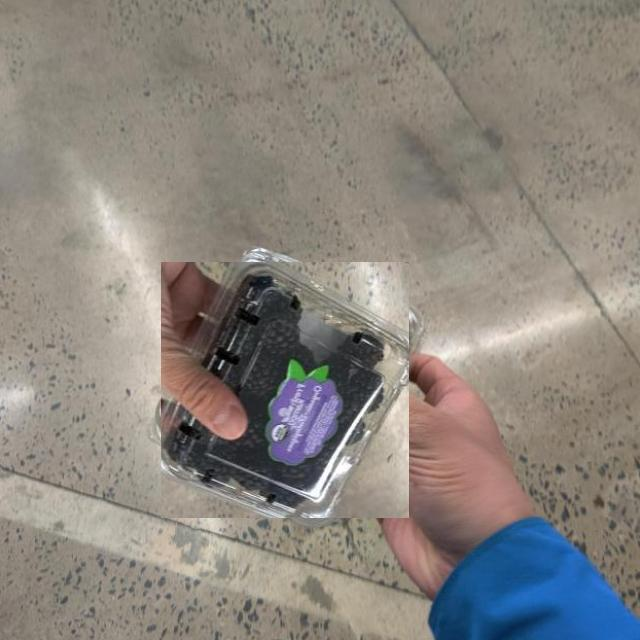Blackberries: (161, 261, 409, 518)
